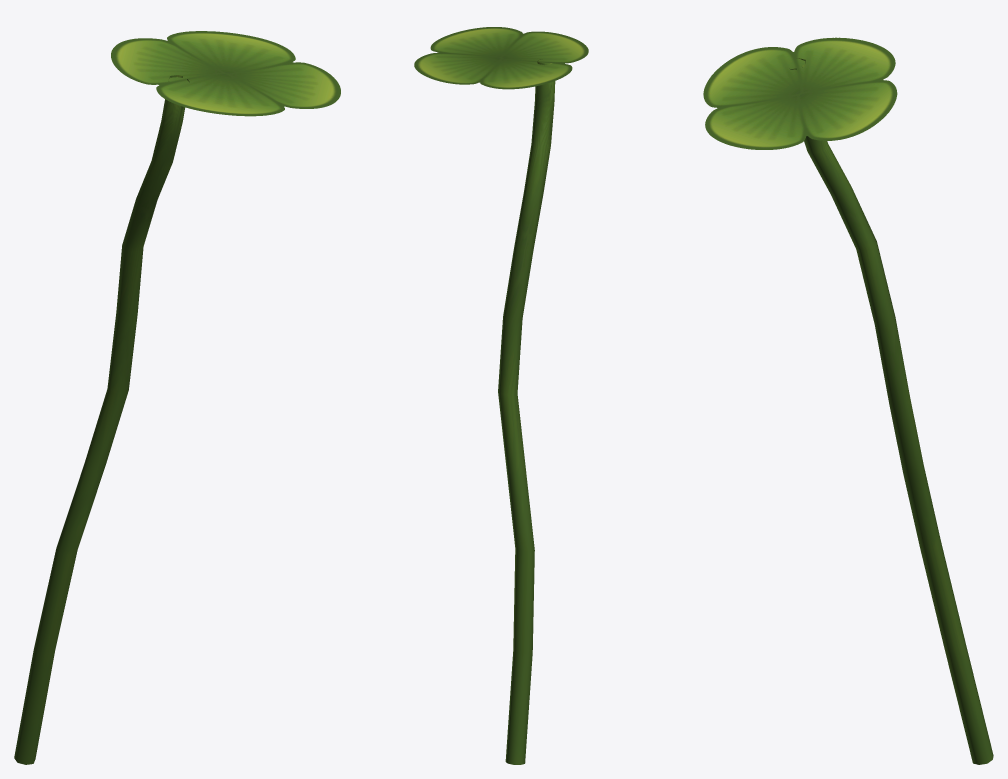
Rendered from LillypadBob.fbx.
The picture shows the model from 3 angles, left to right: view 1: azimuth 30°, elevation 25°; view 2: azimuth 150°, elevation 25°; view 3: azimuth 270°, elevation 25°; orthographic projection. The views are drawn at different scales.
Visible parts, largest first — view 1: LillypadBase (2), RoofTile; view 2: LillypadBase (2), RoofTile; view 3: RoofTile, LillypadBase (2).
Part boxes in pixels (x1=…): LillypadBase (2): x1=14, y1=75, x2=189, y2=764; RoofTile: x1=111, y1=31, x2=340, y2=116; LillypadBase (2): x1=498, y1=59, x2=555, y2=764; RoofTile: x1=414, y1=27, x2=588, y2=89; RoofTile: x1=703, y1=37, x2=897, y2=149; LillypadBase (2): x1=790, y1=58, x2=993, y2=764.
Bounding box in the file's own units: 0.8263 × 2.2 × 0.9299.
